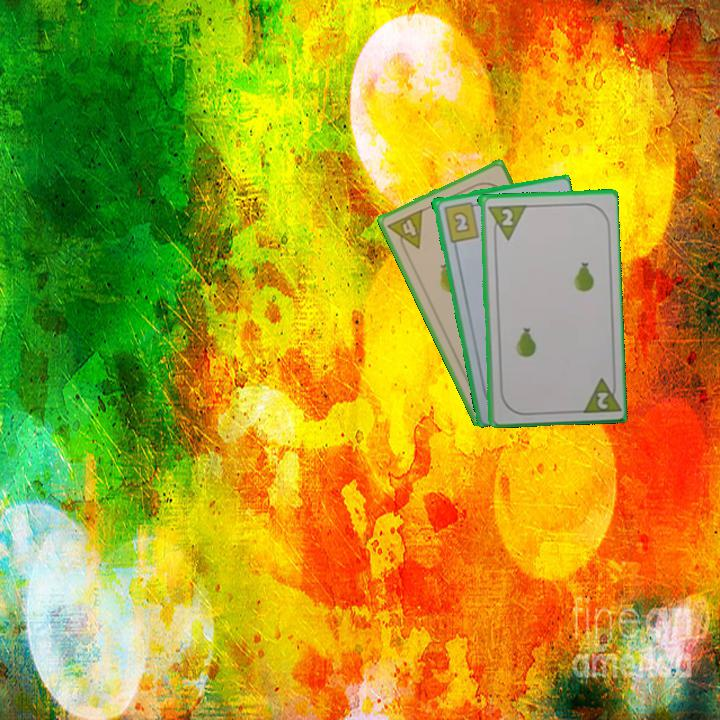2b: (440, 198, 482, 245)
2p: (577, 373, 621, 416), (484, 201, 527, 243)
4p: (384, 205, 426, 257)
